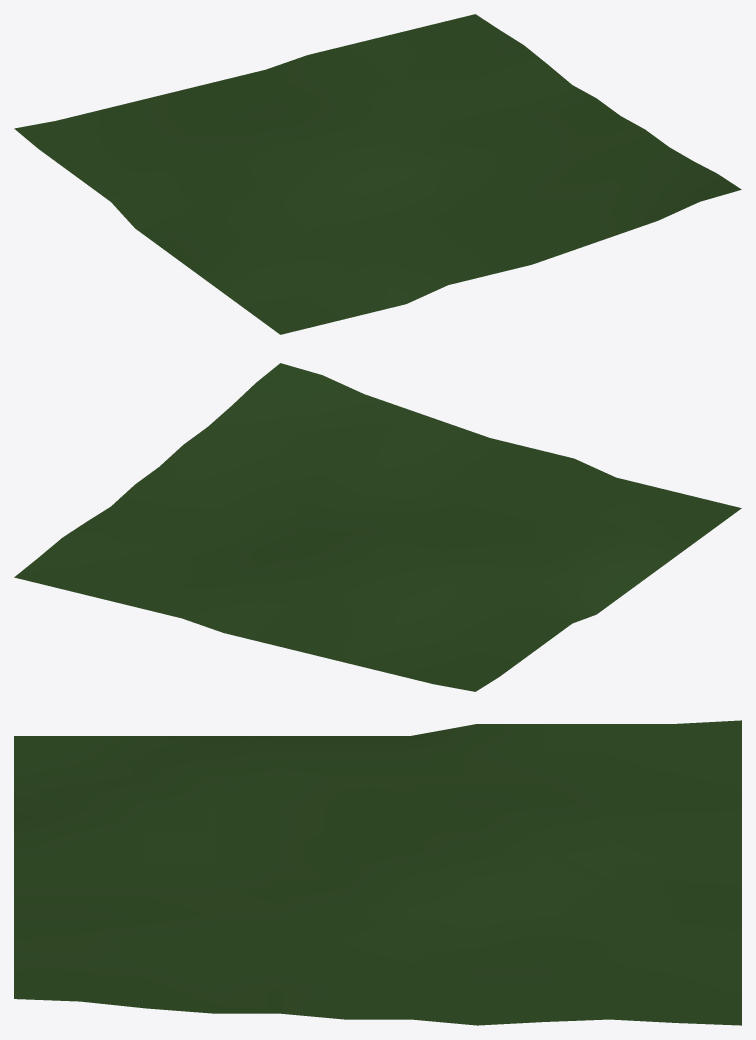
The model's file is TerrainS23.fbx.
The picture shows the model from 3 angles, top to bottom: view 1: azimuth 30°, elevation 25°; view 2: azimuth 150°, elevation 25°; view 3: azimuth 270°, elevation 25°; orthographic projection. The views are drawn at different scales.
Visible parts, largest first — view 1: TerrainModel.001; view 2: TerrainModel.001; view 3: TerrainModel.001.
Boxes of the visible parts, x1=… form: TerrainModel.001: x1=14, y1=14, x2=741, y2=334; TerrainModel.001: x1=14, y1=363, x2=741, y2=691; TerrainModel.001: x1=14, y1=720, x2=741, y2=1025.
Bounding box in the file's own units: 21569 × 1455 × 21569.
